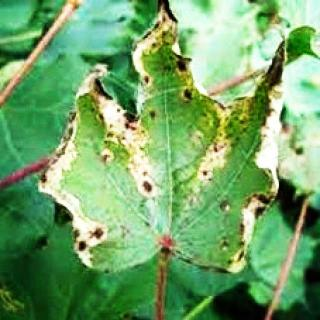leaf spot: (37, 1, 283, 273)
